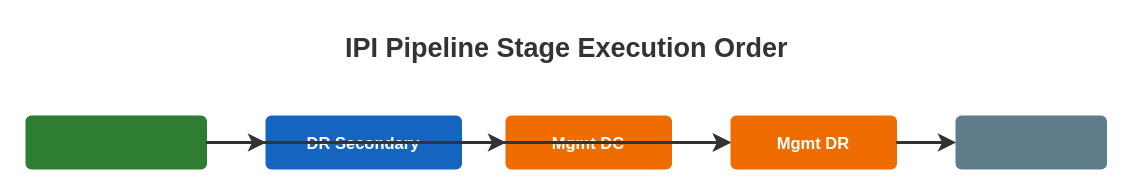
Image size: 1133x195. Some labels were removed from this diagram. The centre of each missing label's shape, as x and y in pixels:
"DC Primary" belongs at point 115,142.
"Summary" belongs at point 1030,142.
